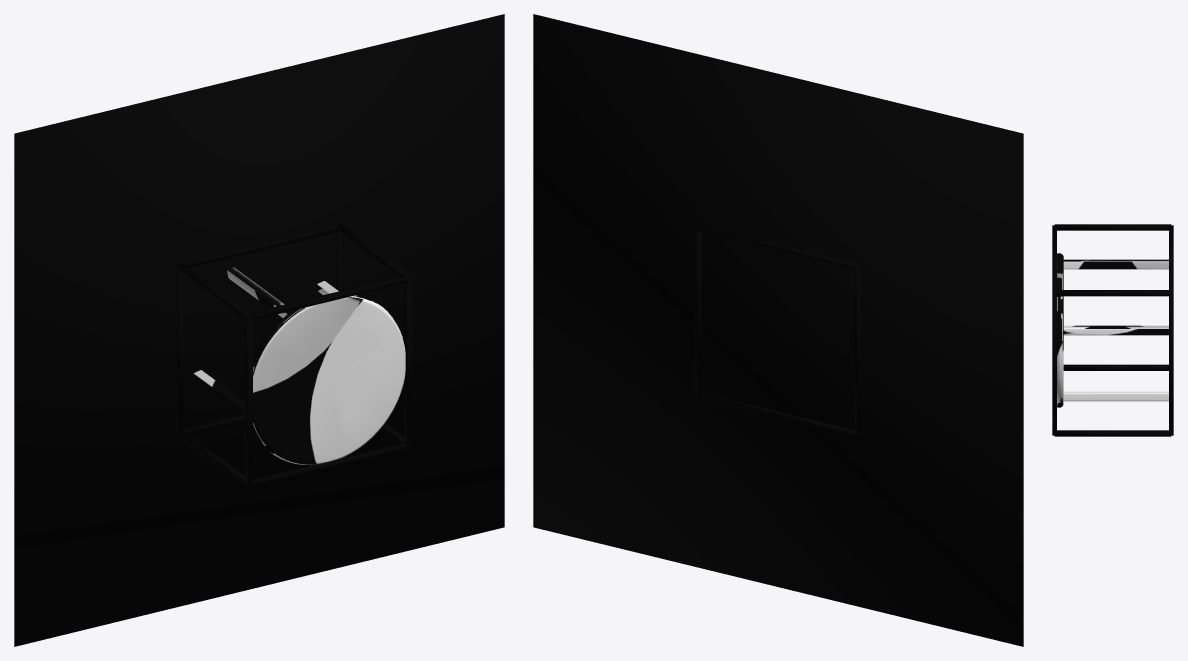
The picture shows the model from 3 angles, left to right: view 1: azimuth 30°, elevation 25°; view 2: azimuth 150°, elevation 25°; view 3: azimuth 270°, elevation 25°; orthographic projection. The views are drawn at different scales.
Size of the model in its own units: 2 by 2 by 0.5096.
